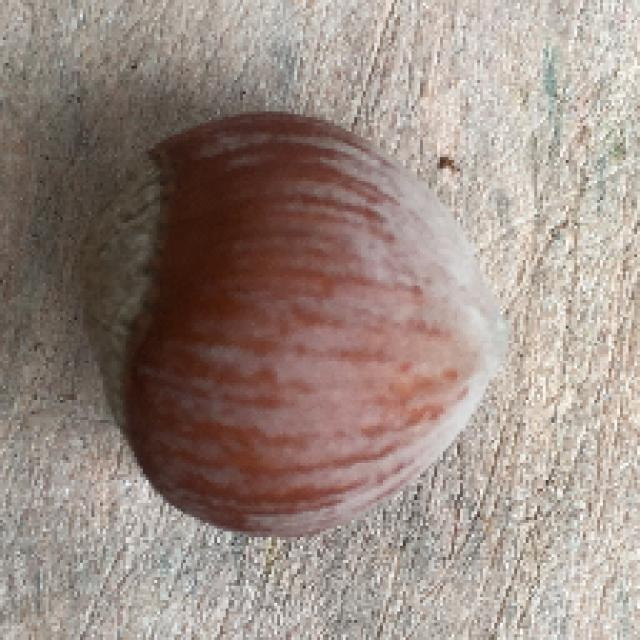qualityHazelnut: (75, 117, 512, 541)
